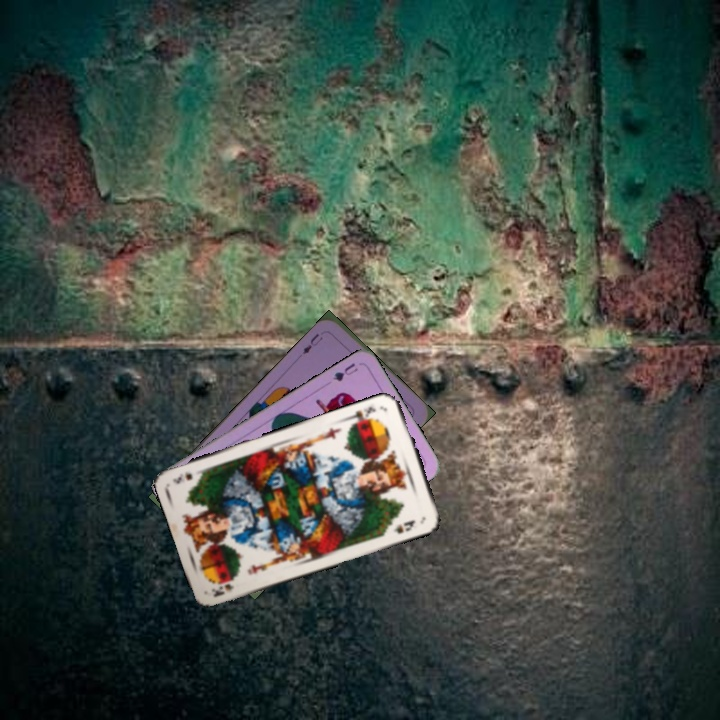EU: (298, 330, 326, 357)
GU: (329, 359, 360, 384)
SK: (346, 402, 378, 427), (207, 576, 237, 600)
